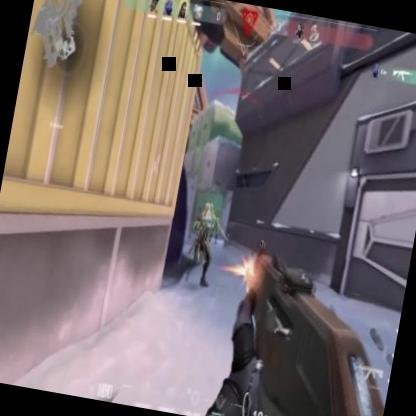enemy: (184, 199, 224, 287), (207, 212, 222, 245)
enemy_head: (203, 202, 210, 216), (215, 212, 219, 216)
